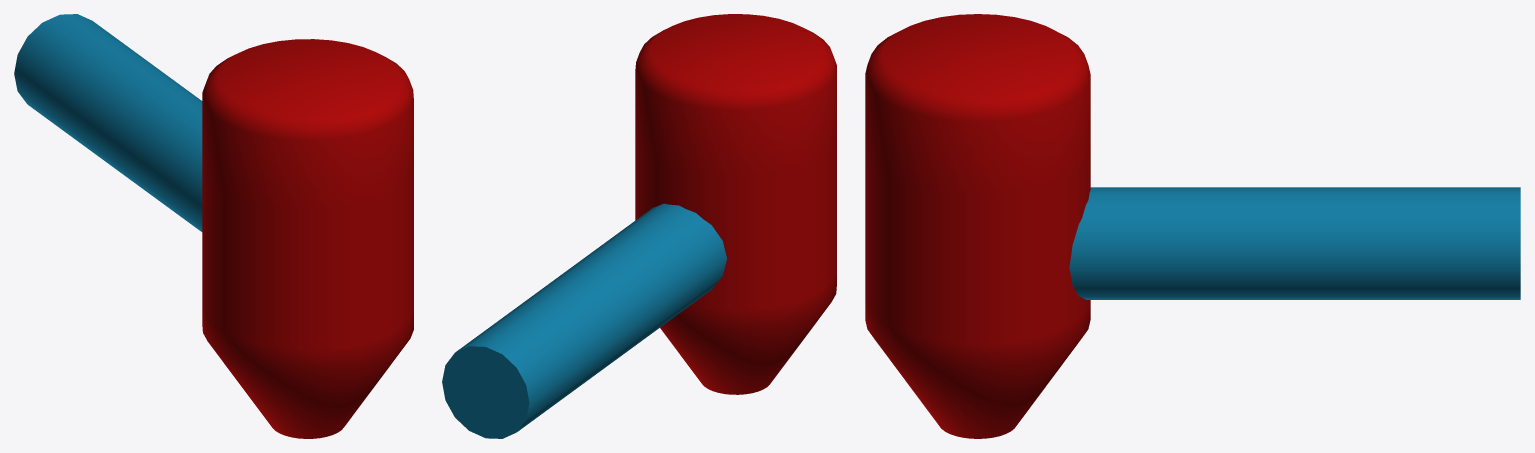
The model's file is SpinningHammer.fbx.
3 views of the same model, side by side, from view 1: azimuth 30°, elevation 25°; view 2: azimuth 150°, elevation 25°; view 3: azimuth 270°, elevation 25° (orthographic). The views are drawn at different scales.
Visible parts, largest first — view 1: HammerHead, HammerBase; view 2: HammerHead, HammerBase; view 3: HammerHead, HammerBase.
Boxes of the visible parts, x1,y1,x2,y2 form: HammerHead: (202, 39, 413, 438); HammerBase: (14, 14, 202, 231); HammerHead: (635, 14, 836, 394); HammerBase: (442, 203, 726, 438); HammerHead: (865, 14, 1090, 438); HammerBase: (1069, 187, 1520, 299).
Size of the model in its own units: 2 by 3.63 by 5.82.
